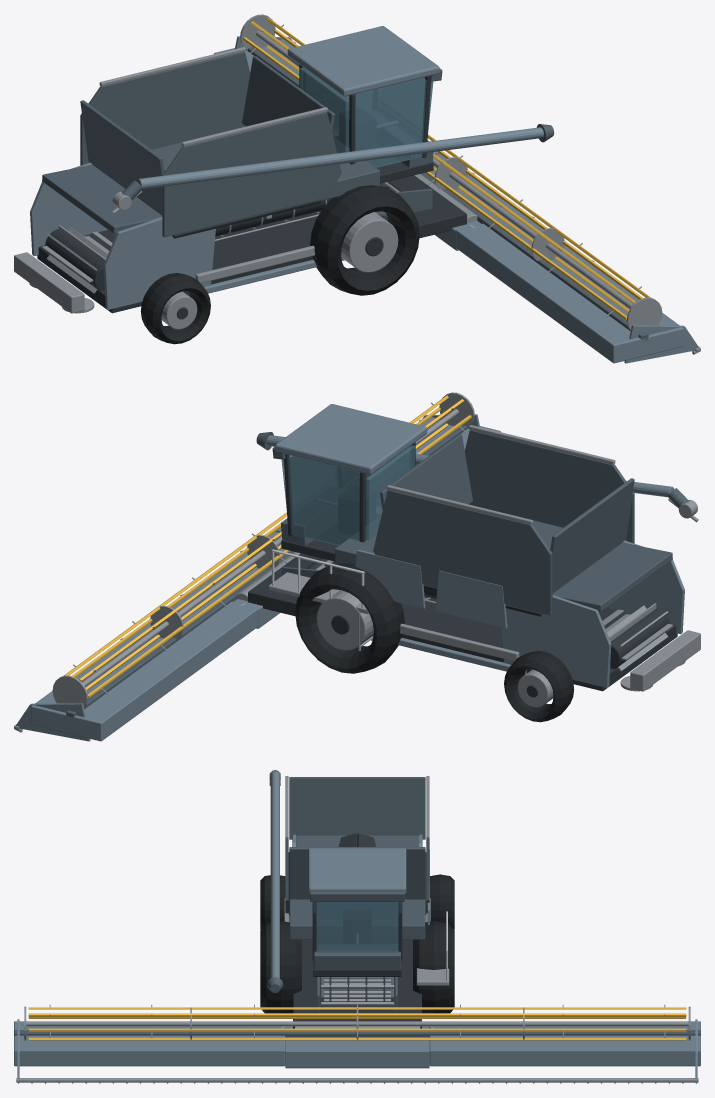
Rendered from john-deere-x9-1100-structural-study.glb.
3 views of the same model, one above another, from view 1: azimuth 30°, elevation 25°; view 2: azimuth 150°, elevation 25°; view 3: azimuth 270°, elevation 25° (orthographic). The views are drawn at different scales.
Visible parts, largest first — view 1: Grain_Tank_Right_Side, Grain_Tank_External_Volume, HD50R_R_Wing_Frame, Front_R_Tire, Carrier_Main_Frame, Cab_Roof_Cap, Rear_Power_Module_R_Profile, Cab_R_Panoramic_Glass, Unloader_Auger_9_45m_Tube, Grain_Tank_Rear_Wall, Rear_Power_Module_Top, Grain_Tank_Front_Wall (+31 smaller); view 2: Grain_Tank_External_Volume, Grain_Tank_Right_Side, HD50R_L_Wing_Frame, Cab_Roof_Cap, Front_L_Tire, Rear_Power_Module_L_Profile, Cab_L_Panoramic_Glass, Carrier_Main_Frame, Grain_Tank_Rear_Wall, Rear_Power_Module_Top, Grain_Tank_Front_Wall, Dual_Rotor_Rear_Service_Door (+31 smaller); view 3: HD50R_R_Wing_Frame, HD50R_L_Wing_Frame, Grain_Tank_Rear_Wall, HD50R_Center_Frame, Cab_Roof_Cap, Cab_Front_Panoramic_Glass, HD50R_Reel_Axle, HD50R_Main_Backbone, HD50R_Cutterbar, Carrier_Main_Frame, Separator_Upper_Roof, Front_L_Tire (+16 smaller).
Boxes of the visible parts, x1,y1,x2,y2 form: Grain_Tank_Right_Side: (162, 112, 341, 237); Grain_Tank_External_Volume: (80, 52, 250, 165); HD50R_R_Wing_Frame: (456, 214, 683, 363); Front_R_Tire: (310, 185, 419, 295); Carrier_Main_Frame: (37, 175, 466, 313); Cab_Roof_Cap: (287, 26, 439, 96); Rear_Power_Module_R_Profile: (103, 217, 215, 309); Cab_R_Panoramic_Glass: (355, 78, 431, 167); Unloader_Auger_9_45m_Tube: (136, 127, 543, 189); Grain_Tank_Rear_Wall: (80, 100, 164, 215); Rear_Power_Module_Top: (42, 164, 162, 233); Grain_Tank_Front_Wall: (242, 56, 335, 131); Grain_Tank_External_Volume: (373, 490, 552, 615); Grain_Tank_Right_Side: (464, 430, 634, 543); HD50R_L_Wing_Frame: (31, 592, 258, 741); Cab_Roof_Cap: (275, 404, 427, 474); Front_L_Tire: (295, 563, 404, 673); Rear_Power_Module_L_Profile: (501, 595, 611, 687); Cab_L_Panoramic_Glass: (283, 456, 359, 545); Carrier_Main_Frame: (248, 553, 677, 691); Grain_Tank_Rear_Wall: (550, 478, 634, 593); Rear_Power_Module_Top: (552, 542, 672, 611); Grain_Tank_Front_Wall: (379, 434, 472, 510); Dual_Rotor_Rear_Service_Door: (435, 570, 507, 628); HD50R_R_Wing_Frame: (14, 1021, 285, 1066); HD50R_L_Wing_Frame: (429, 1021, 700, 1066); Grain_Tank_Rear_Wall: (289, 777, 425, 839); HD50R_Center_Frame: (285, 1026, 429, 1068); Cab_Roof_Cap: (308, 848, 406, 893); Cab_Front_Panoramic_Glass: (316, 902, 398, 952); HD50R_Reel_Axle: (26, 1021, 688, 1026); HD50R_Main_Backbone: (14, 1030, 700, 1037); HD50R_Cutterbar: (16, 1078, 698, 1082); Carrier_Main_Frame: (293, 939, 421, 1028); Separator_Upper_Roof: (289, 899, 425, 939); Front_L_Tire: (413, 921, 454, 1013).
Bounding box in the file's own units: 10.12 × 4 × 15.2.
